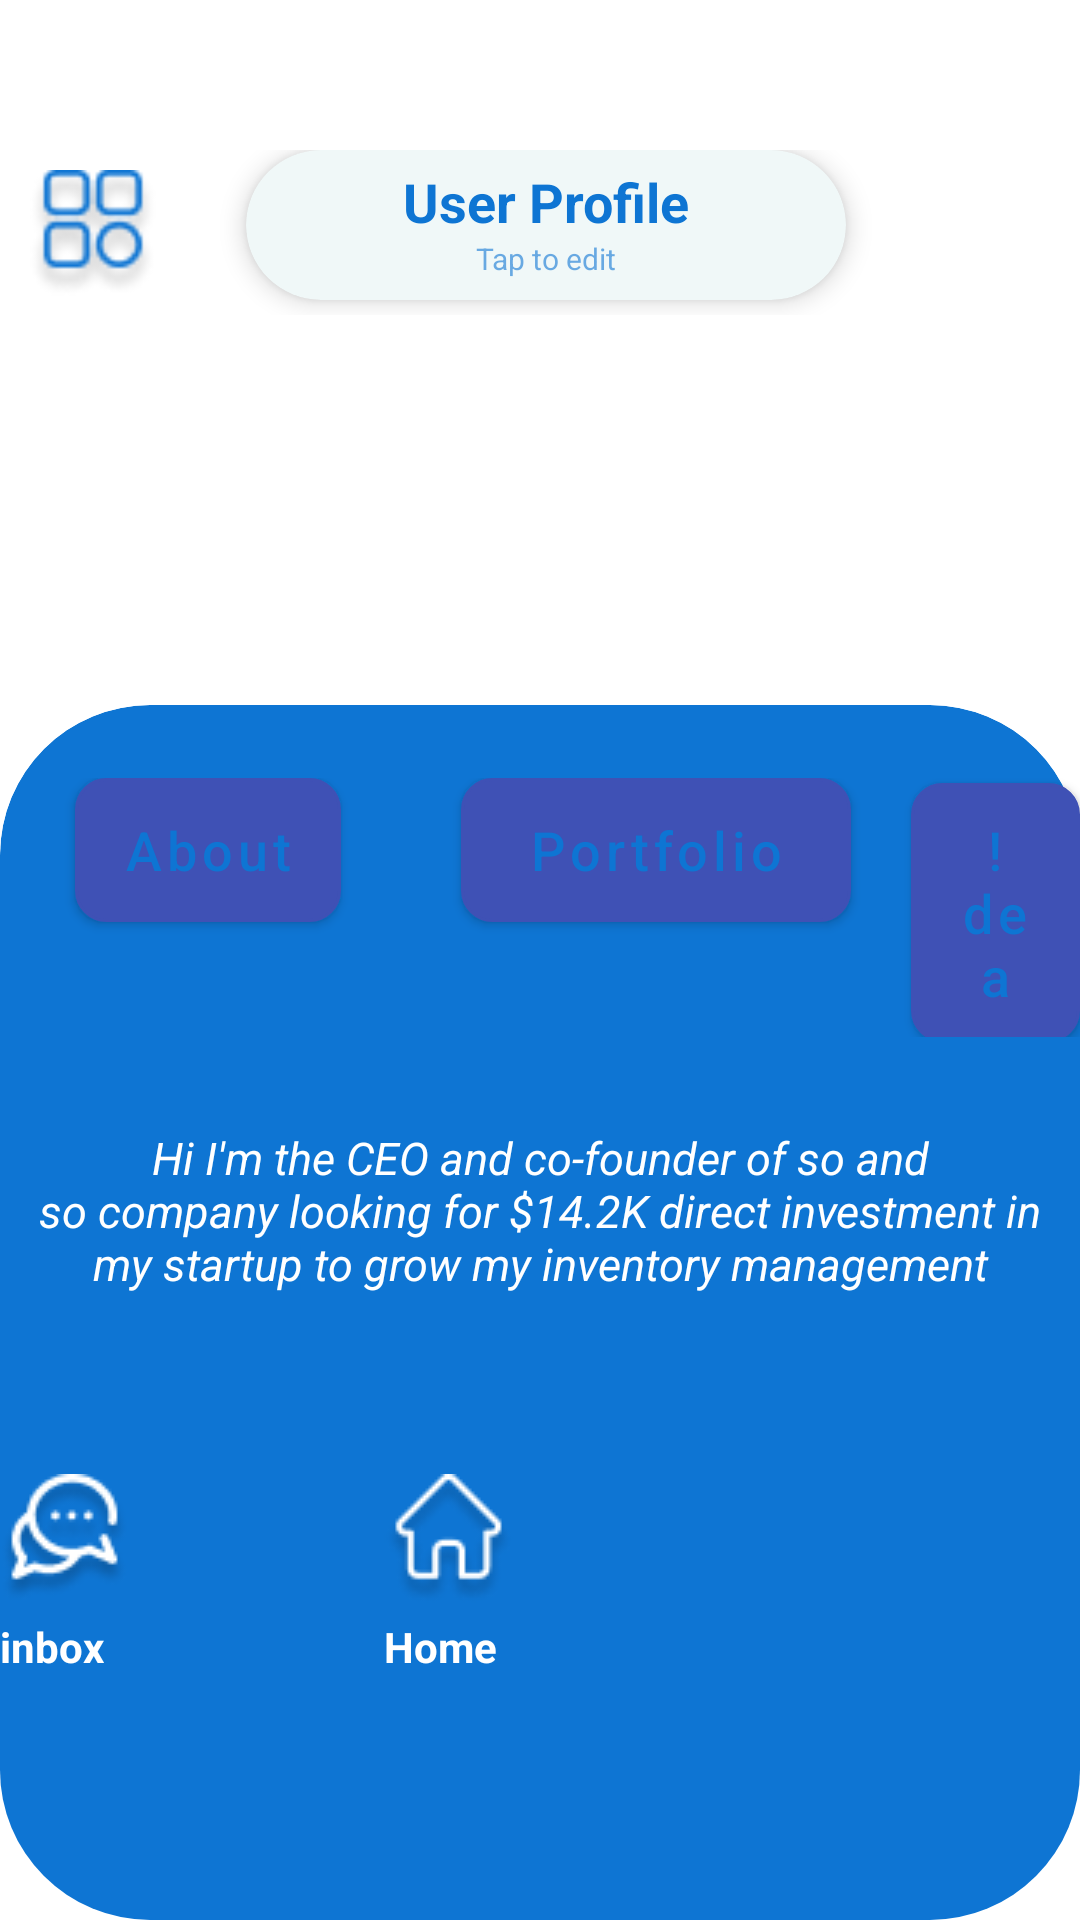

Where to tap for icons on this 1080x1920 app screen, as [x,y]:
chat: [64,1531]
openmenu: [93,225]
